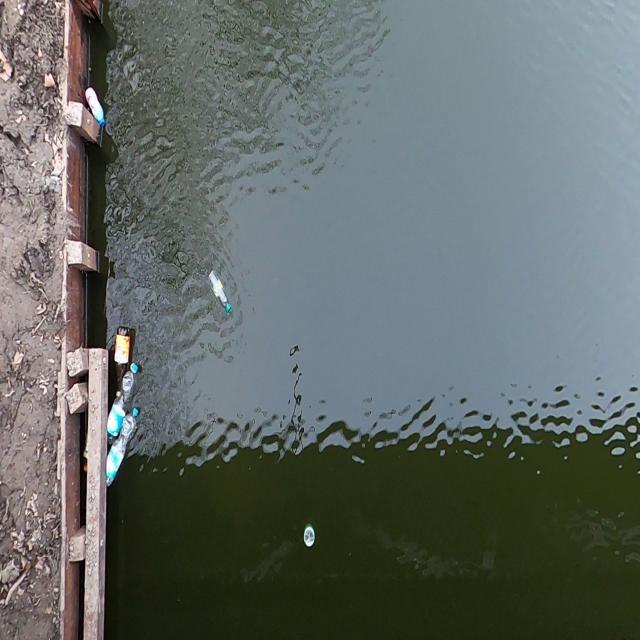Bouteille plastique: (102, 405, 144, 497), (104, 358, 143, 455), (108, 317, 135, 401), (84, 83, 113, 131), (205, 270, 231, 315)
